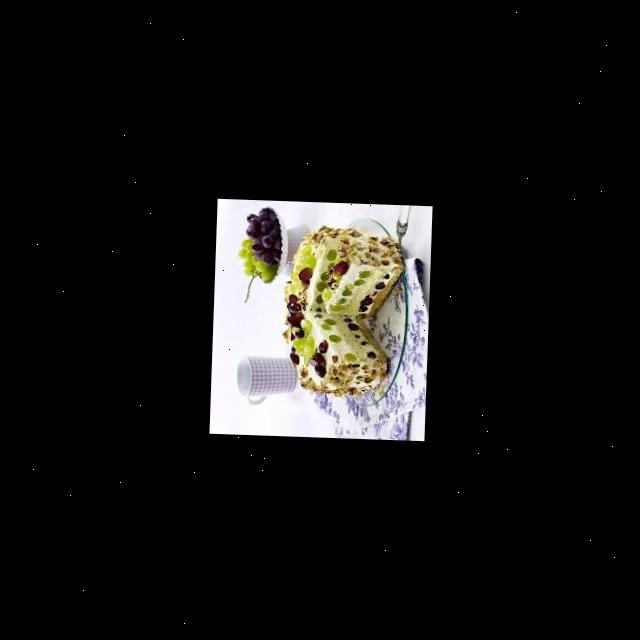grape: (242, 206, 282, 264)
